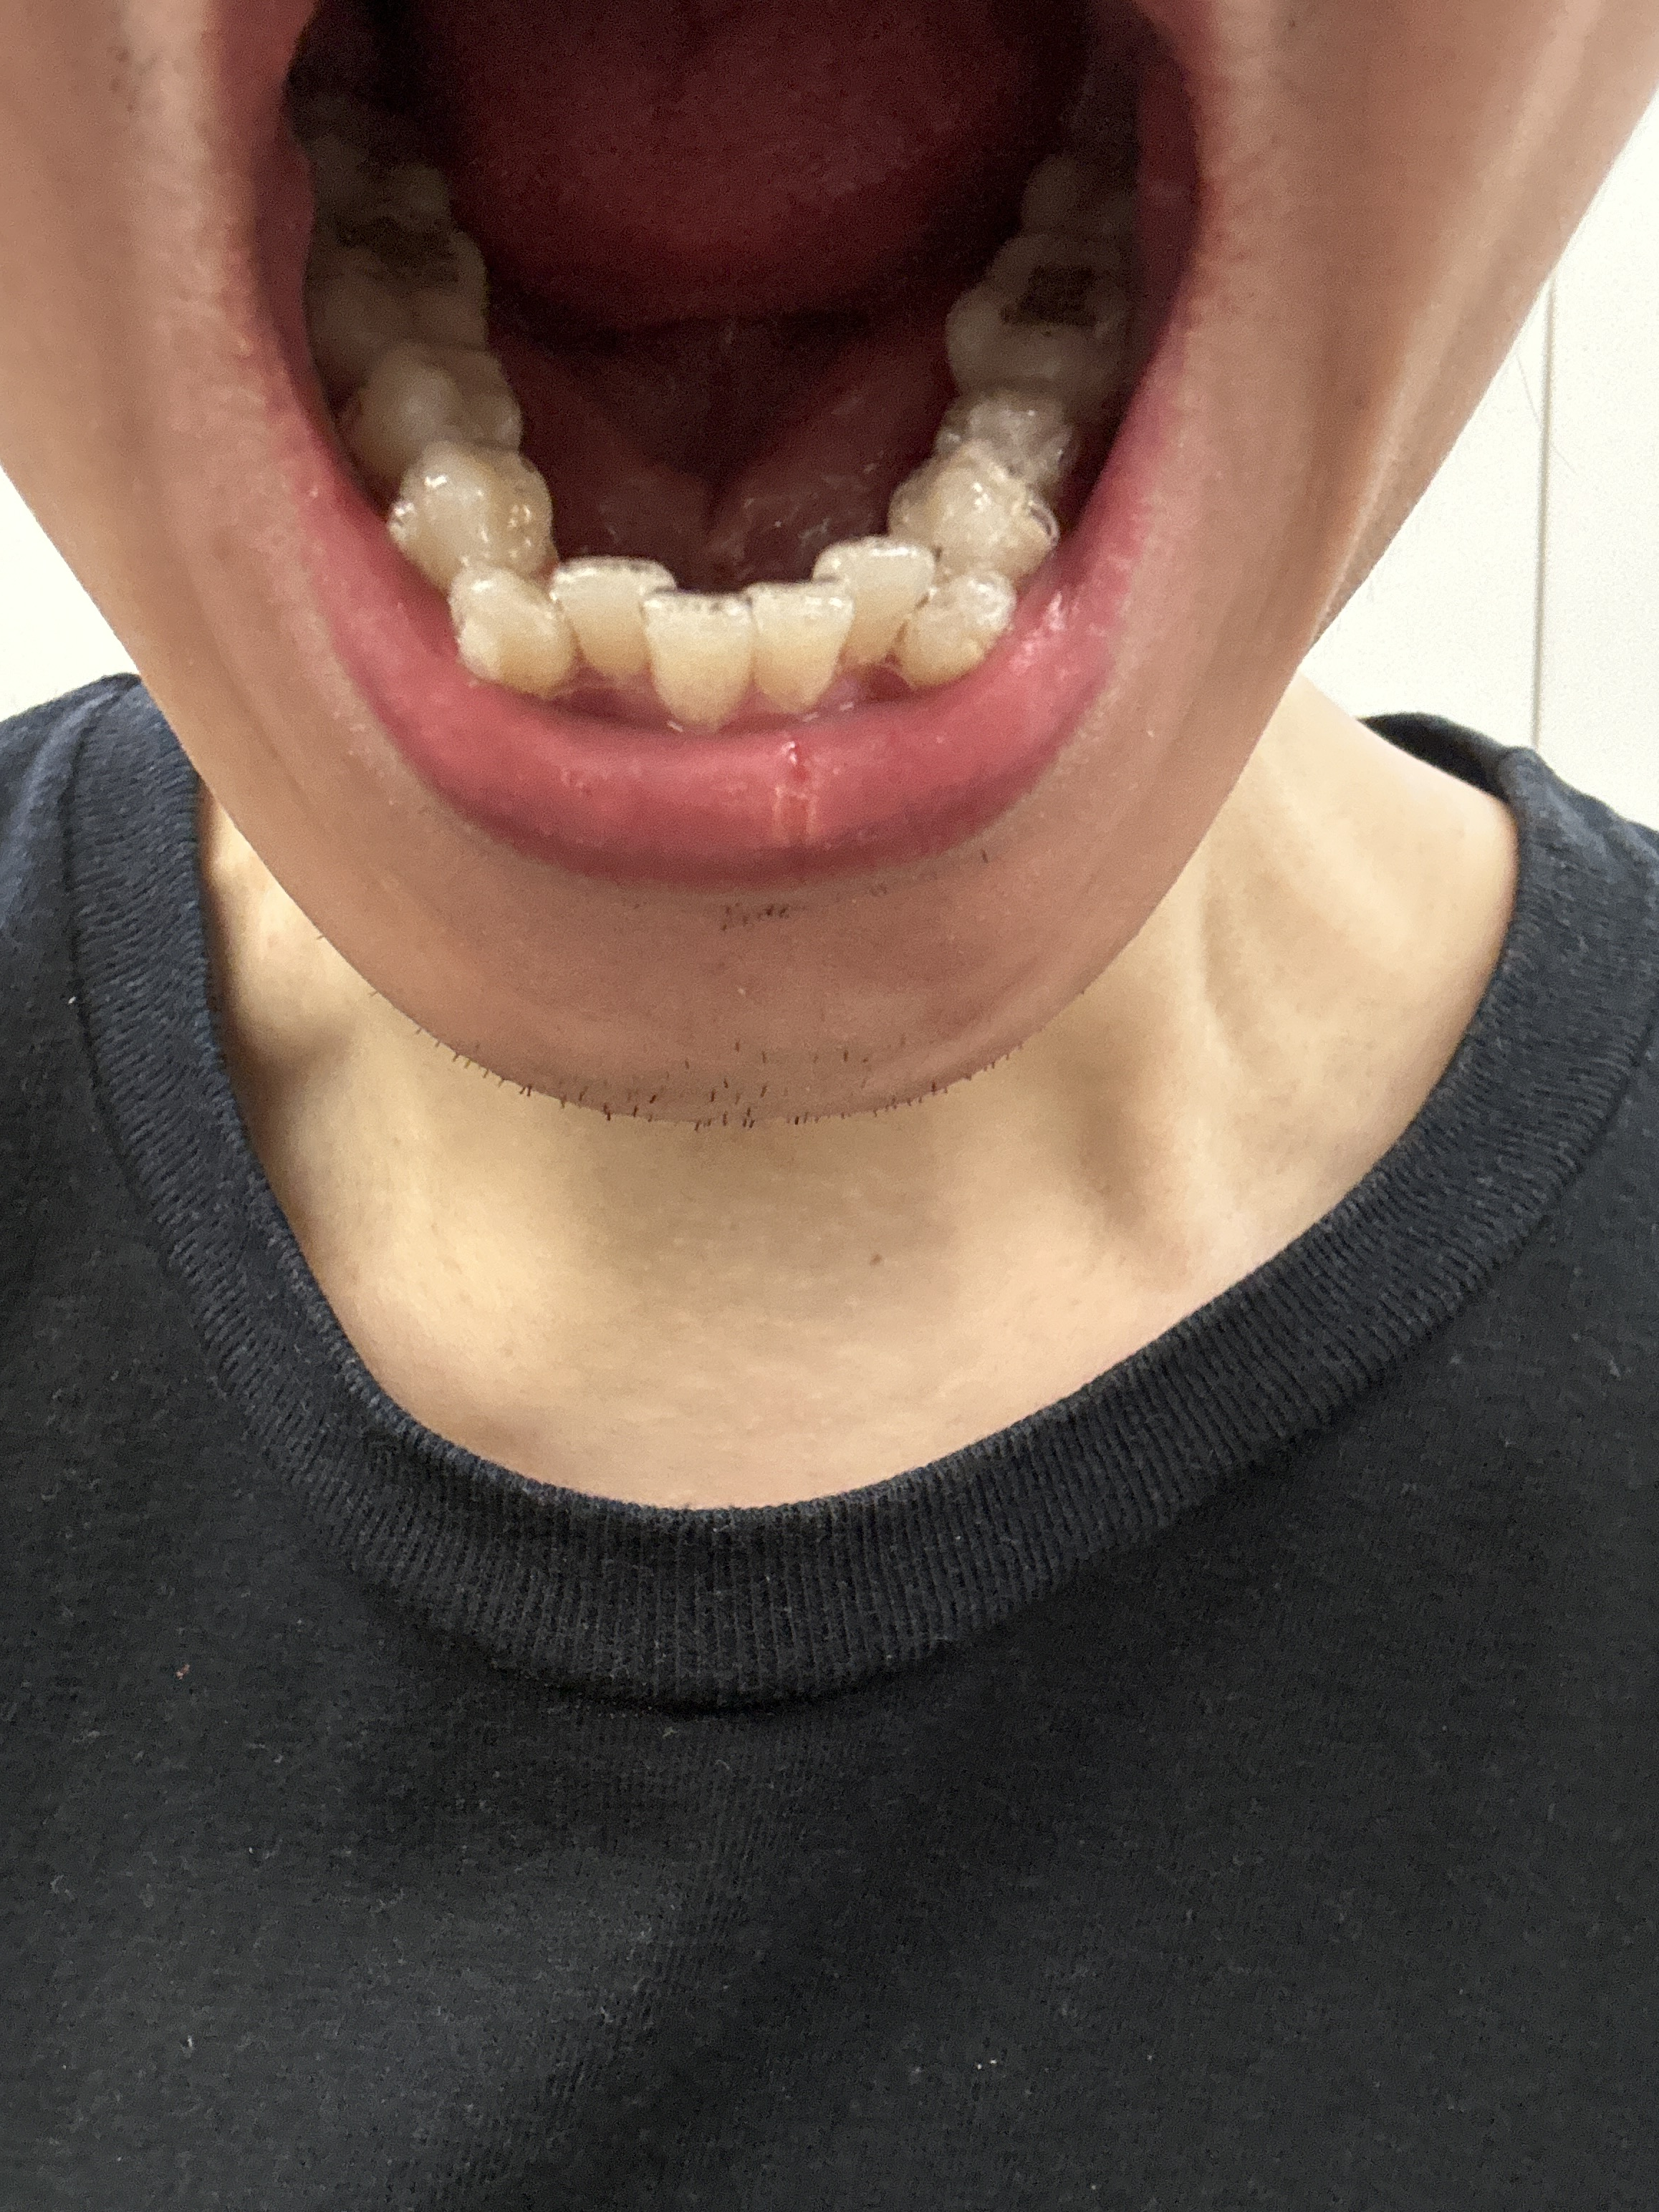teeth: (950, 233, 1127, 406), (312, 232, 488, 385), (340, 354, 523, 486), (383, 448, 547, 592), (903, 451, 1054, 571), (647, 592, 762, 730), (444, 575, 575, 693), (819, 543, 932, 669), (941, 388, 1084, 488), (324, 110, 457, 211), (559, 556, 671, 672), (1042, 136, 1136, 251), (762, 589, 849, 711), (920, 575, 1014, 671)
